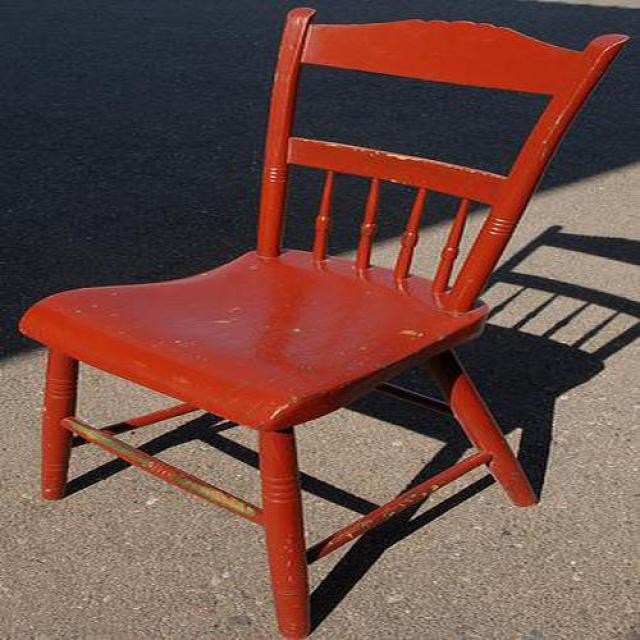chair: (18, 9, 628, 640)
